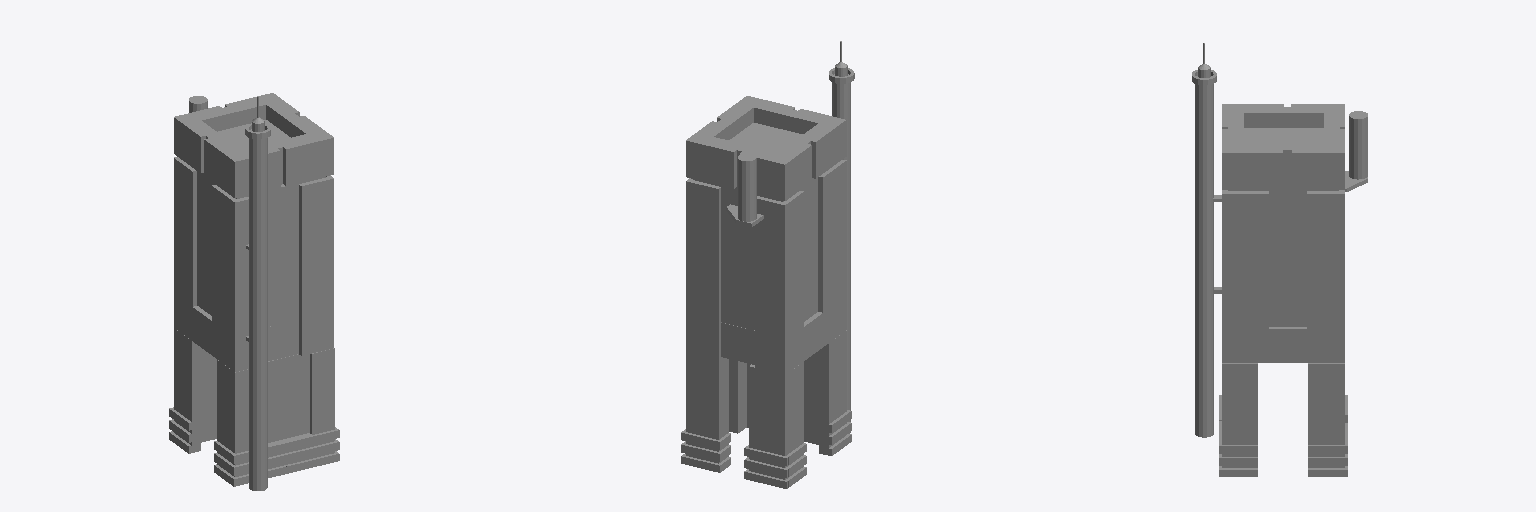
File: chevalement_PI.obj
3 views of the same model, side by side, from view 1: azimuth 30°, elevation 25°; view 2: azimuth 150°, elevation 25°; view 3: azimuth 270°, elevation 25° (orthographic).
Visible parts, largest first — view 1: Cube; view 2: Cube; view 3: Cube.
Part boxes in pixels (left/top/right/bottom): Cube: left=169, top=93, right=339, bottom=490; Cube: left=681, top=41, right=854, bottom=488; Cube: left=1192, top=43, right=1367, bottom=476.
Size of the model in its own units: 5.22 by 18.44 by 7.56.